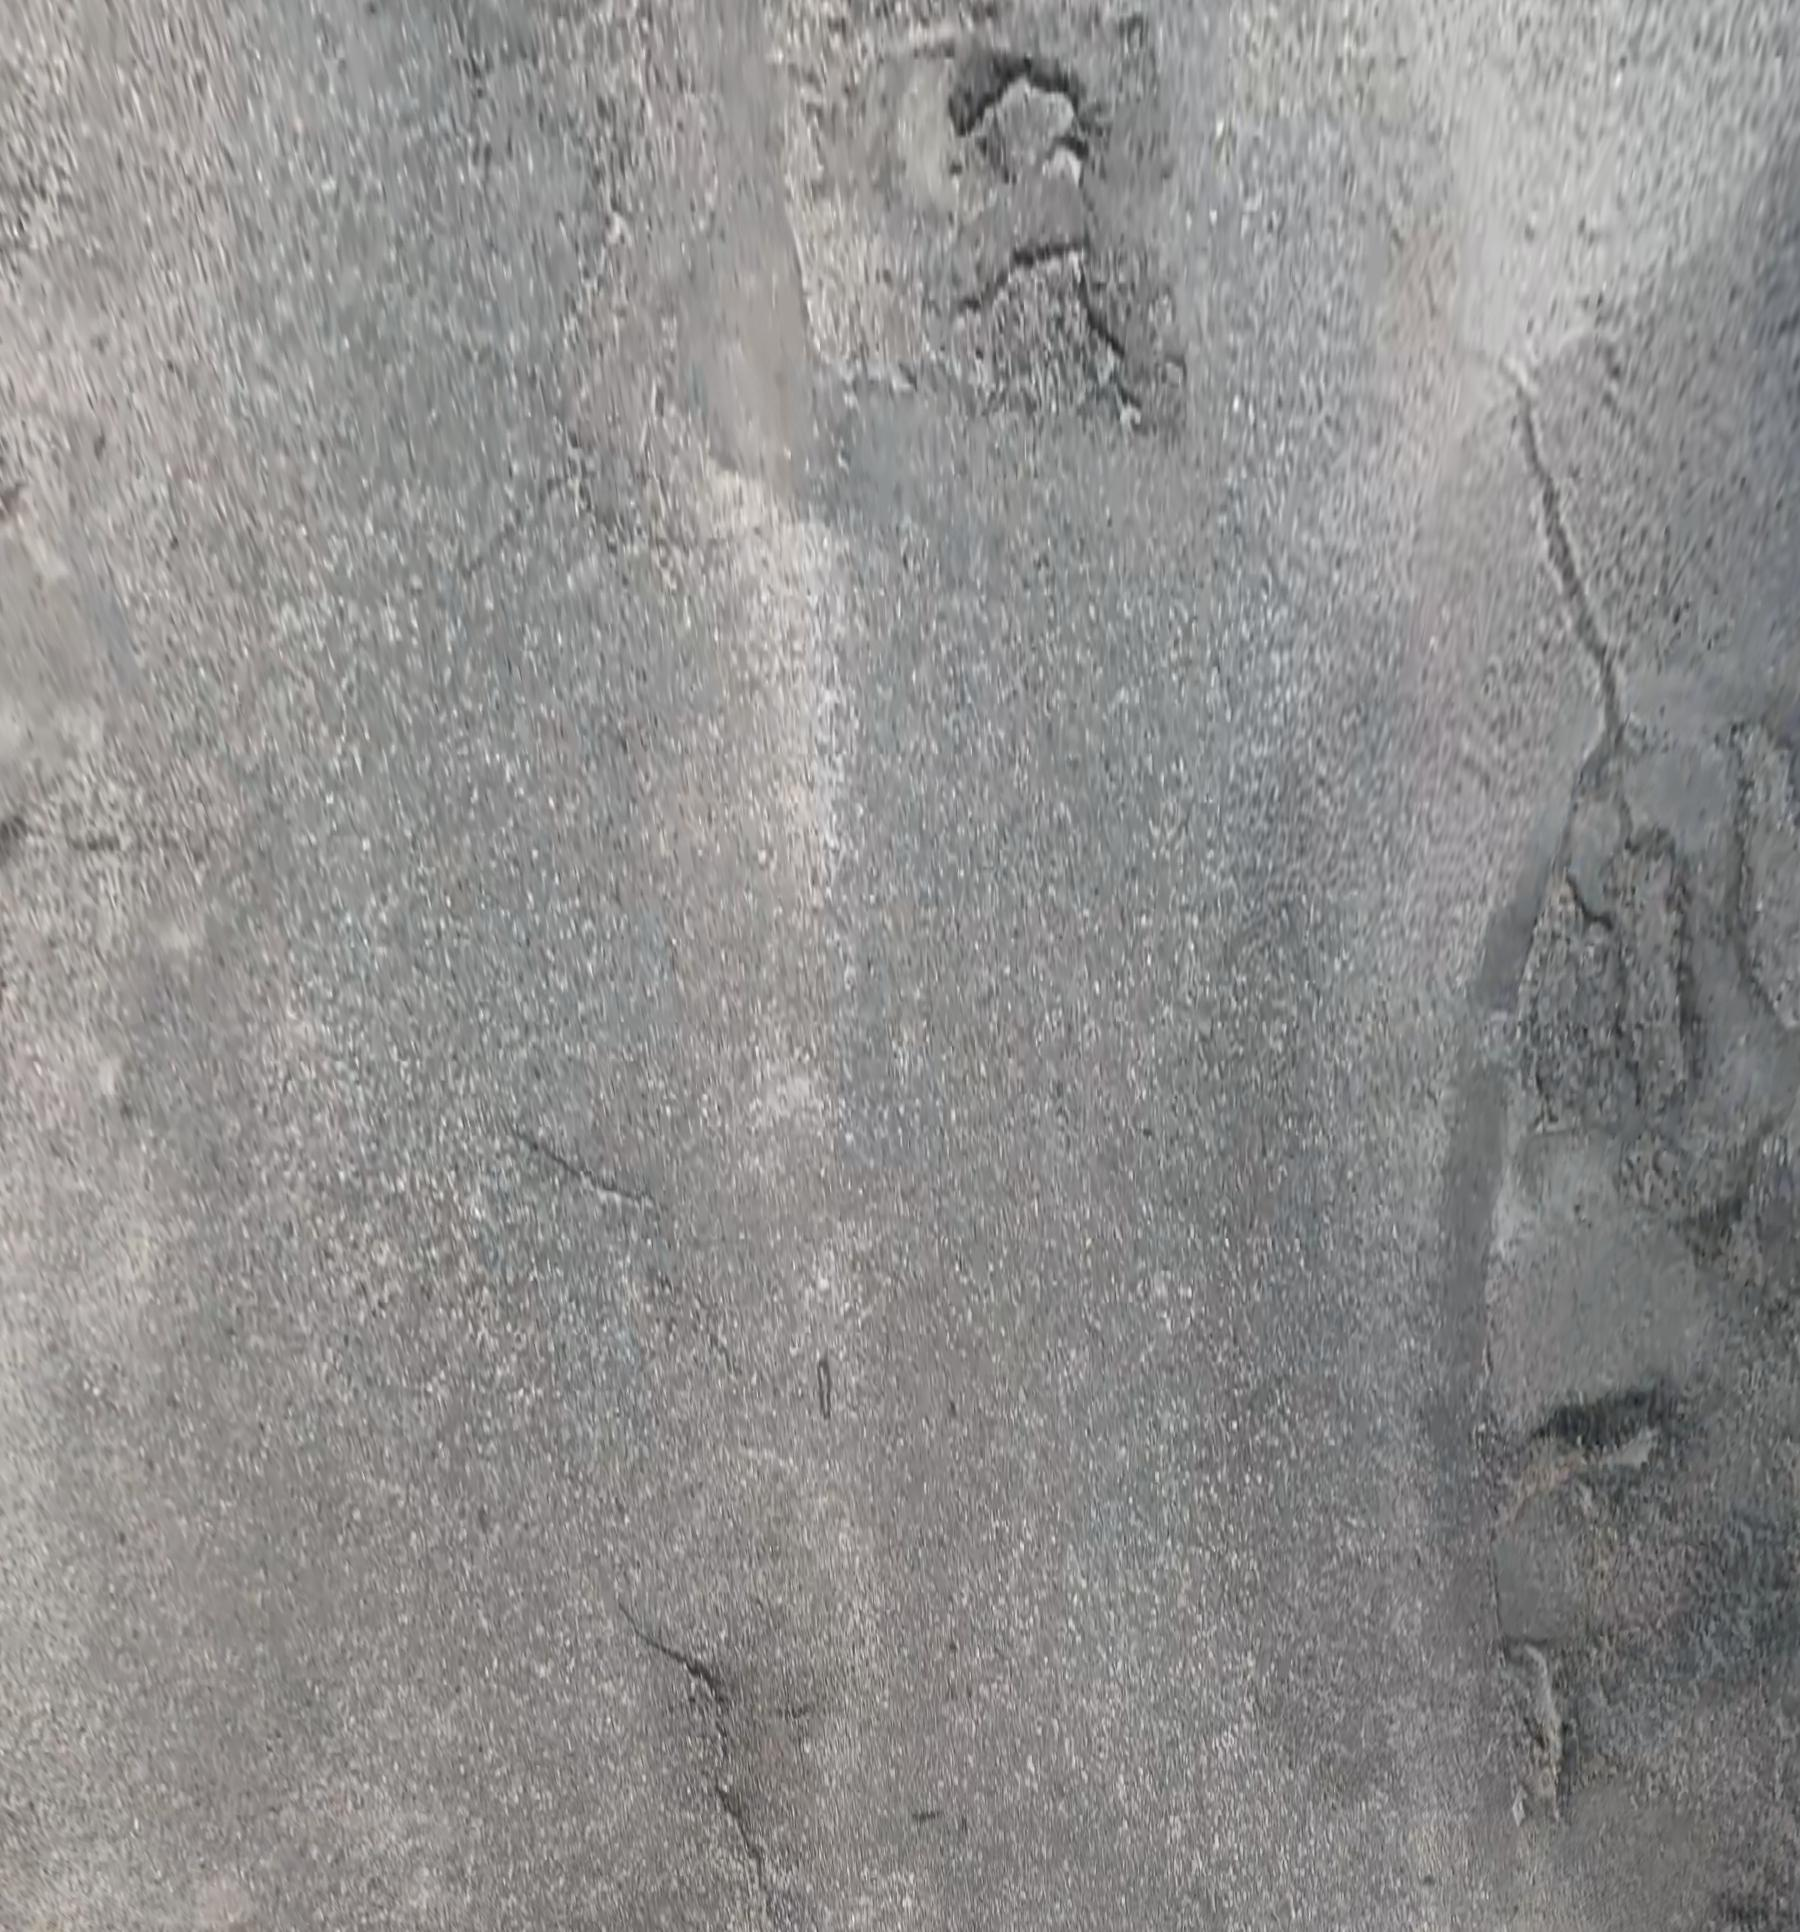pothole: (771, 112, 1128, 423), (1492, 822, 1702, 1196), (1477, 1380, 1680, 1536), (1729, 711, 1798, 1037), (1675, 1186, 1798, 1343), (958, 66, 1095, 186), (1494, 1639, 1563, 1827), (1797, 964, 1798, 971)
